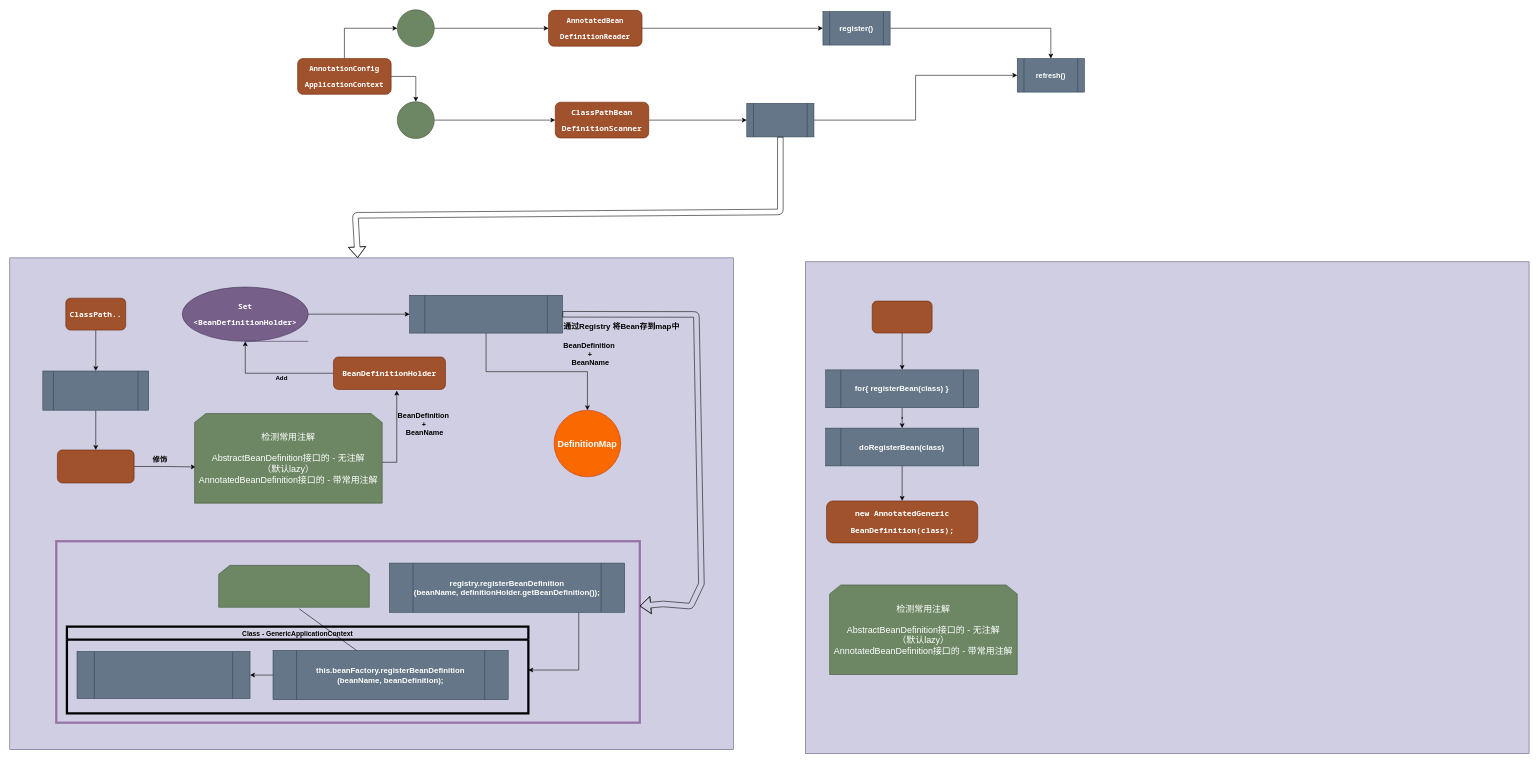
Some shapes in this 1539 by 763 pixel diagram are drawn without their labels. The shapes that lost their labels are listed below. From the top down, each one's box as (x1, y1, x2, y2) in pixels, then its label:
(397, 9, 434, 47): Class
(397, 101, 434, 139): Package
(746, 103, 814, 137): doScan()
(409, 295, 563, 333): registerBeanDefinition (definitionHolder, this.registry);
(872, 301, 932, 333): Class..
(42, 370, 149, 410): findCandidateComponents
(57, 449, 134, 483): S et <BeanDefinition>
(218, 565, 369, 607): beanFactory -- DefaultListableBeanFactory
(76, 651, 250, 699): this.beanDefinitionMap.put(beanName, beanDefinition);
